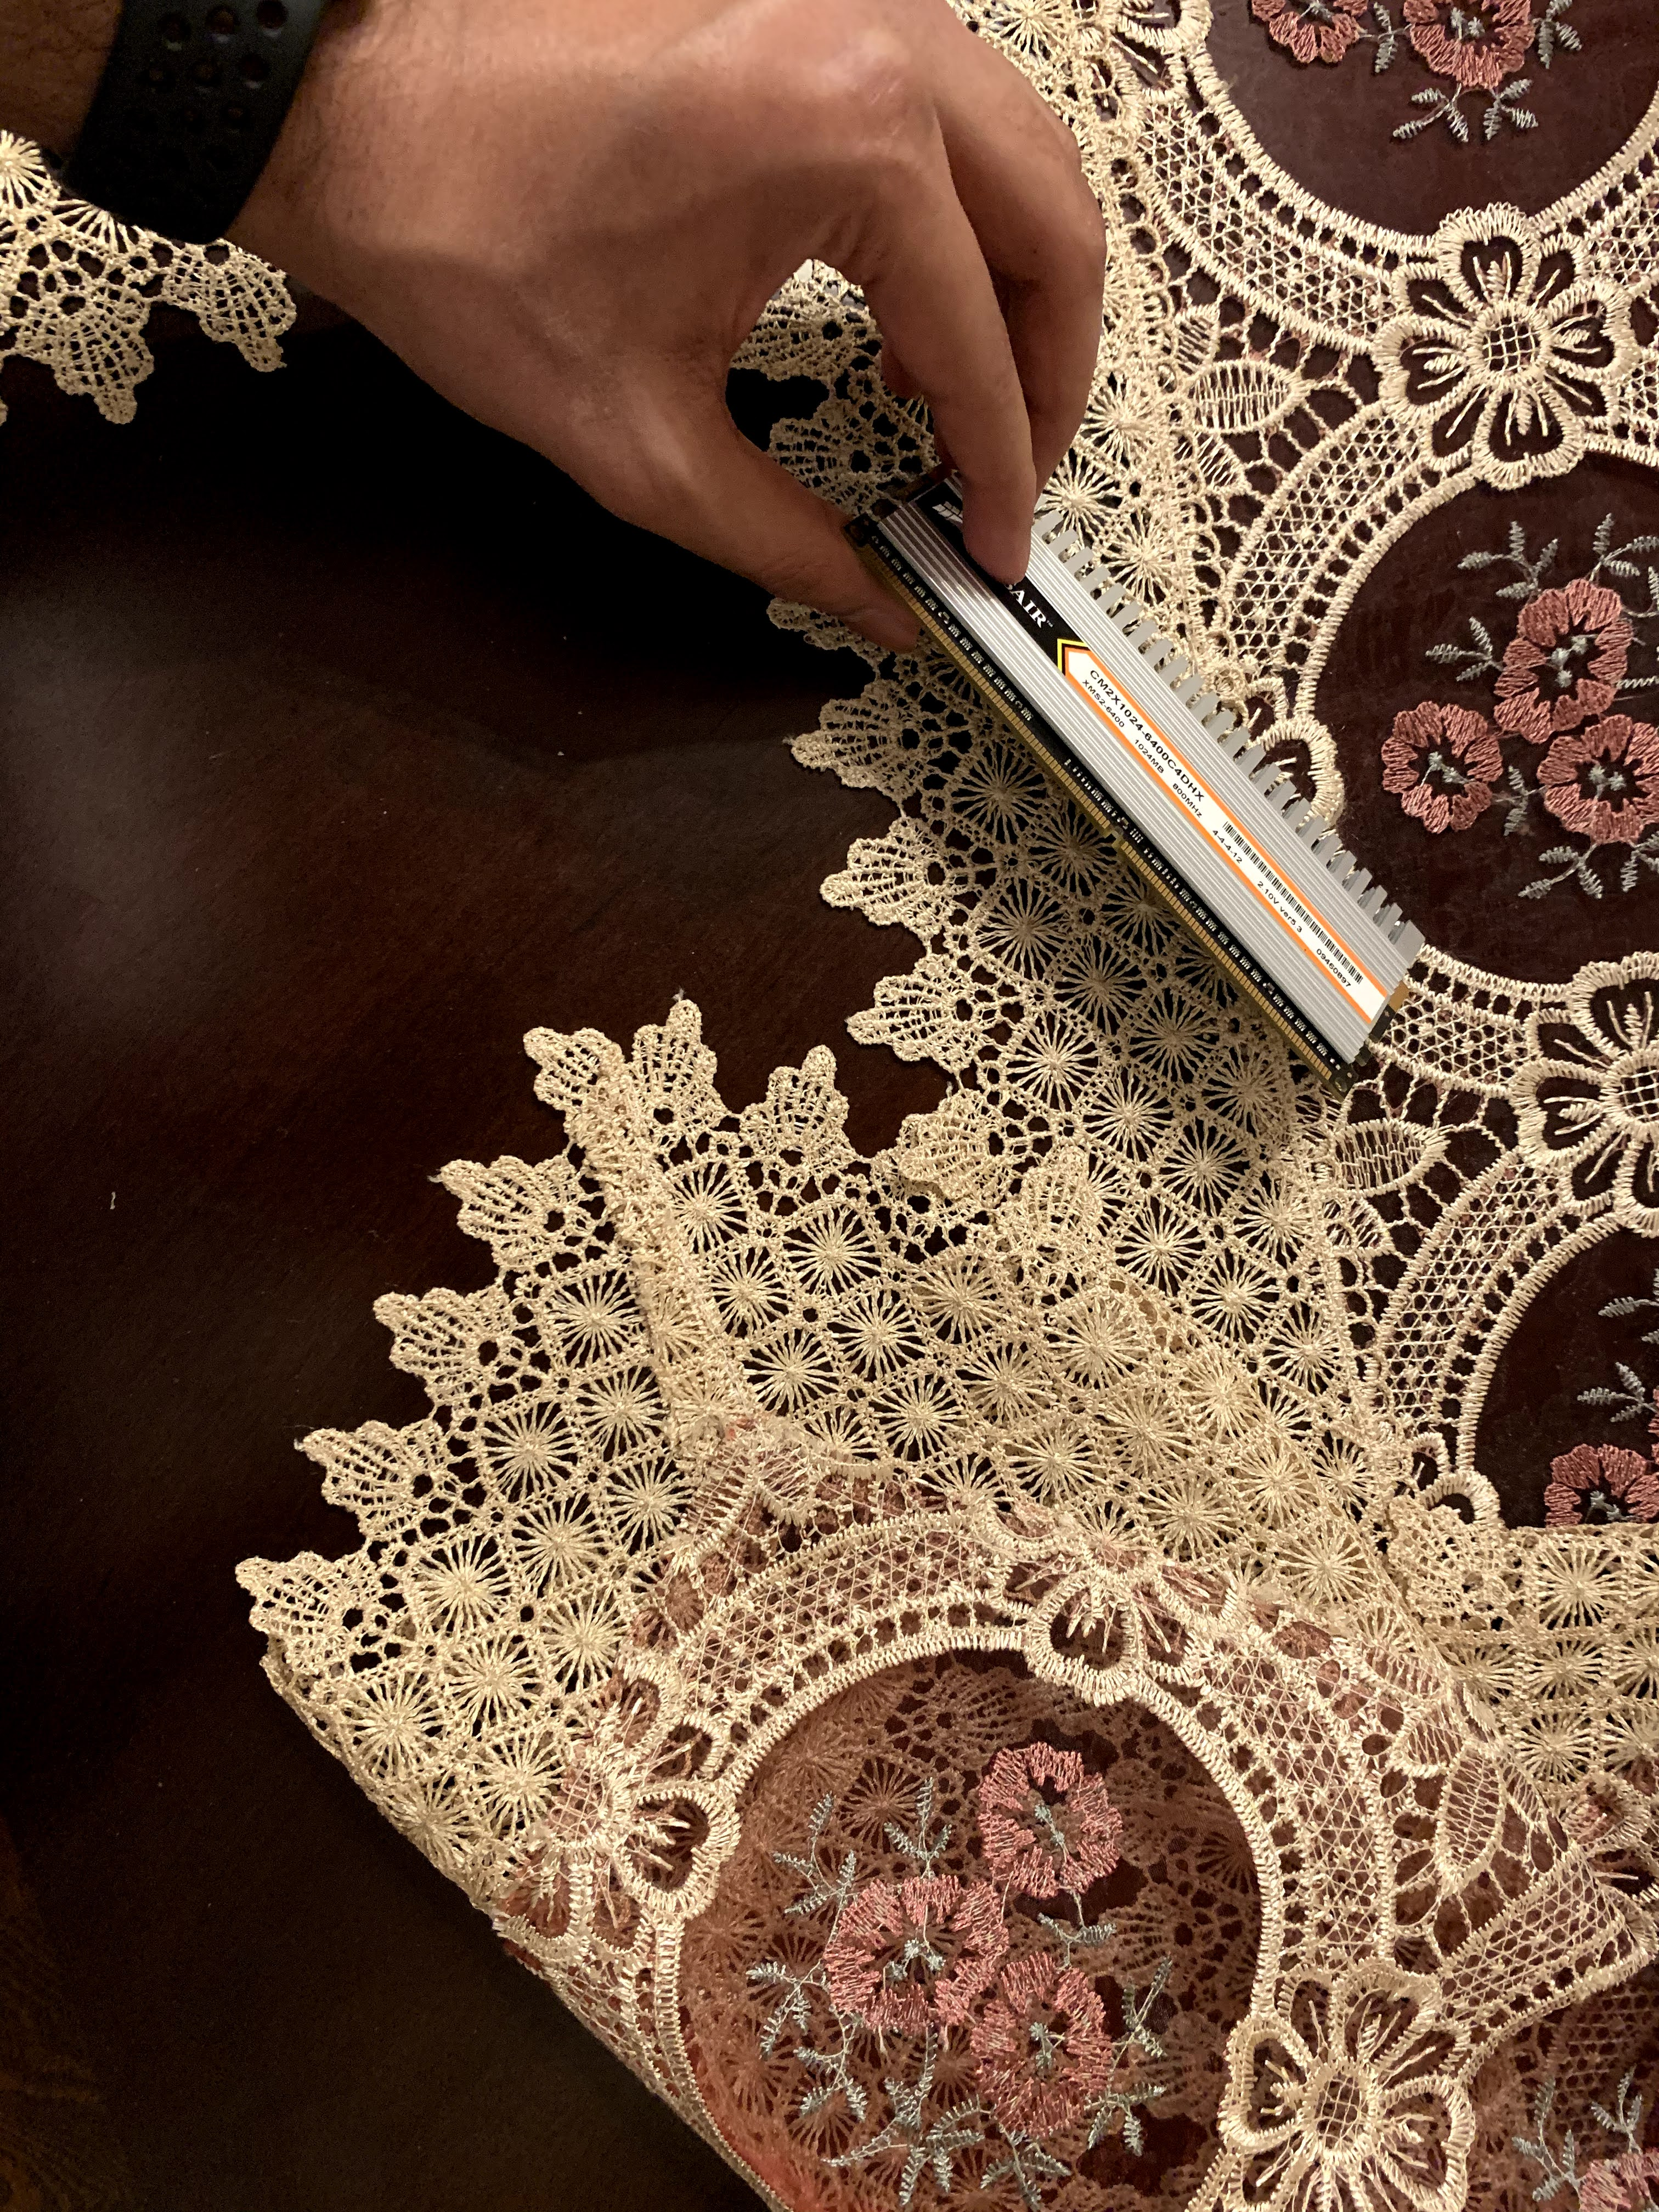Space-debris-medium: (835, 455, 1462, 1082)
